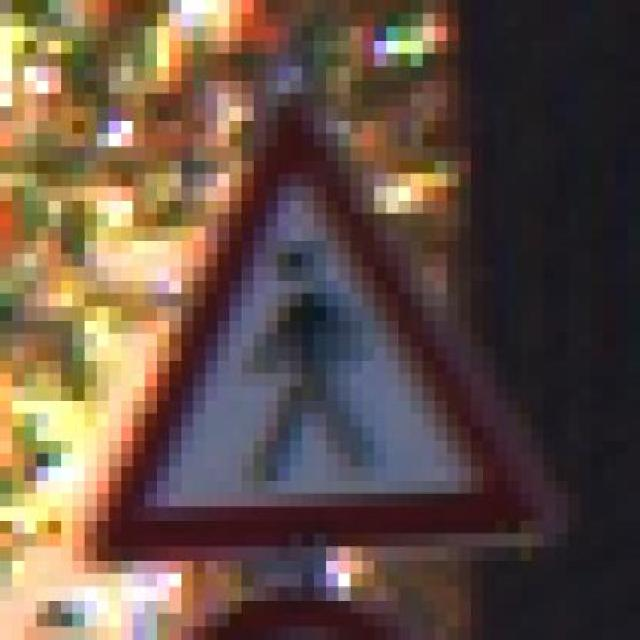Pedestrian Crossing: (72, 80, 568, 574)
